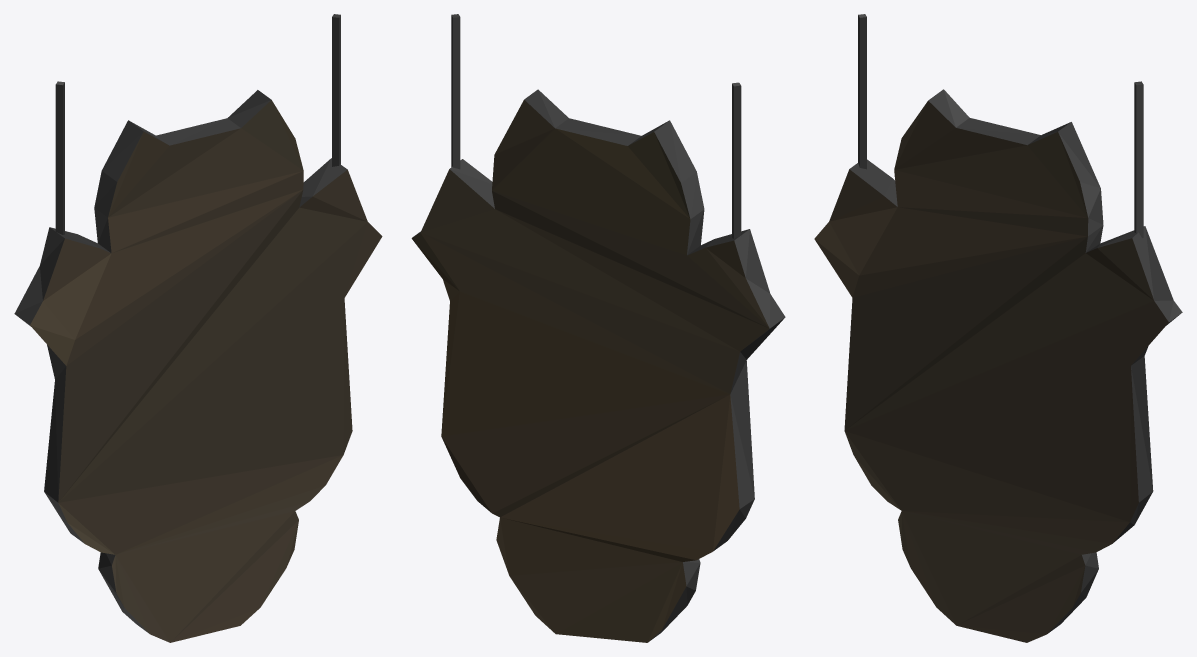
Rendered from Sign-HangingA.fbx.
3 renders of one model, left to right at view 1: azimuth 30°, elevation 25°; view 2: azimuth 150°, elevation 25°; view 3: azimuth 330°, elevation 25°, orthographic.
Parts seen in each view (by area): view 1: Sign-HangingA; view 2: Sign-HangingA; view 3: Sign-HangingA.
Part boxes in pixels (bbox=[...]): Sign-HangingA: bbox=[14, 14, 382, 642]; Sign-HangingA: bbox=[411, 14, 785, 642]; Sign-HangingA: bbox=[814, 14, 1182, 642].
Bounding box in the file's own units: 116 × 181 × 8.98.
